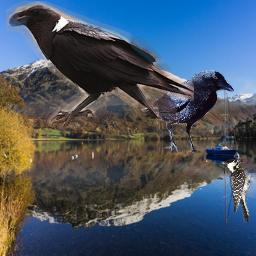Crow: (6, 1, 194, 133), (146, 70, 234, 155)
Woodpecker: (223, 158, 254, 223)
